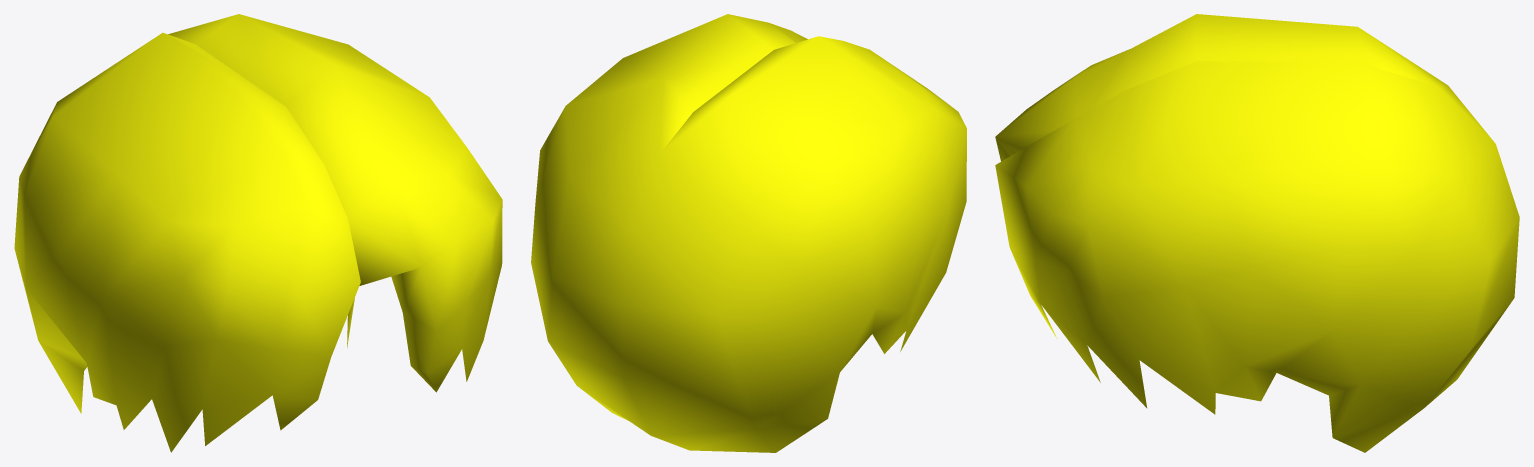
File: hair_zeke.glb
The picture shows the model from 3 angles, left to right: view 1: azimuth 30°, elevation 25°; view 2: azimuth 150°, elevation 25°; view 3: azimuth 270°, elevation 25°; orthographic projection. The views are drawn at different scales.
Visible parts, largest first — view 1: hair_zeke.002; view 2: hair_zeke.002; view 3: hair_zeke.002.
Boxes of the visible parts, box(x1,y1,x2,y2) form: hair_zeke.002: box(14, 14, 502, 452); hair_zeke.002: box(531, 14, 966, 452); hair_zeke.002: box(995, 14, 1519, 452).
Size of the model in its own units: 0.2422 by 0.2397 by 0.2937.
1 material, 1 textured.
